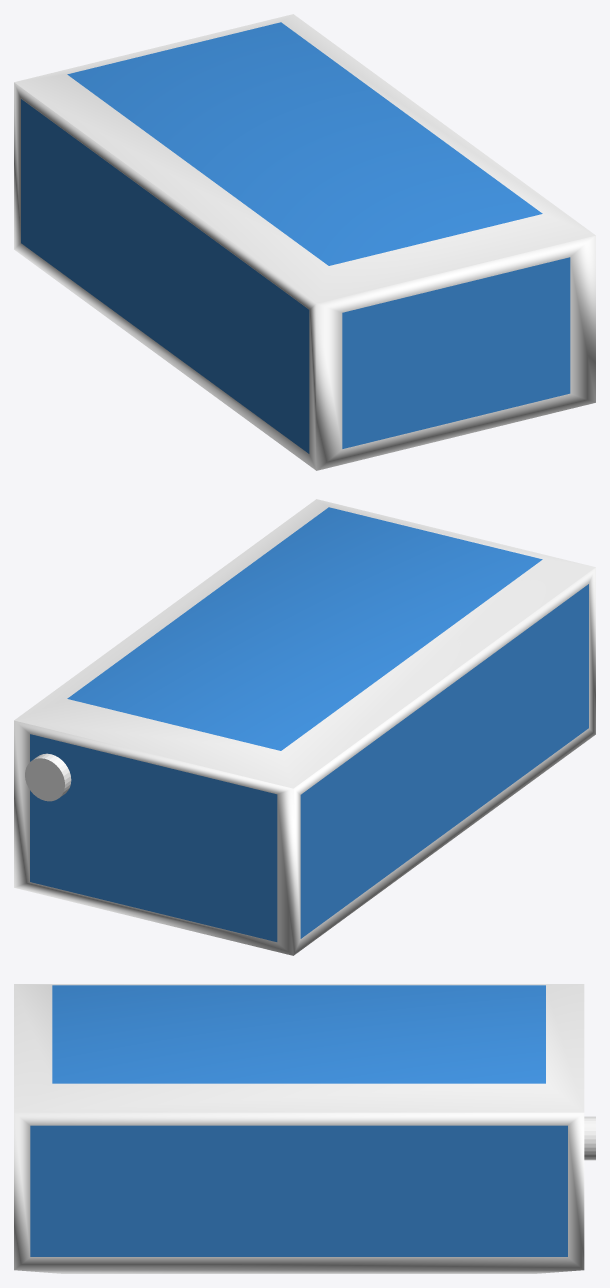
The model's file is Milk.fbx.
The picture shows the model from 3 angles, top to bottom: view 1: azimuth 30°, elevation 25°; view 2: azimuth 150°, elevation 25°; view 3: azimuth 270°, elevation 25°; orthographic projection. The views are drawn at different scales.
Visible parts, largest first — view 1: milk; view 2: milk; view 3: milk.
Boxes of the visible parts, left/top/right/bottom form: milk: left=14, top=14, right=595, bottom=470; milk: left=14, top=499, right=595, bottom=955; milk: left=14, top=984, right=595, bottom=1273.
Bounding box in the file's own units: 3200 × 2161 × 6124.
